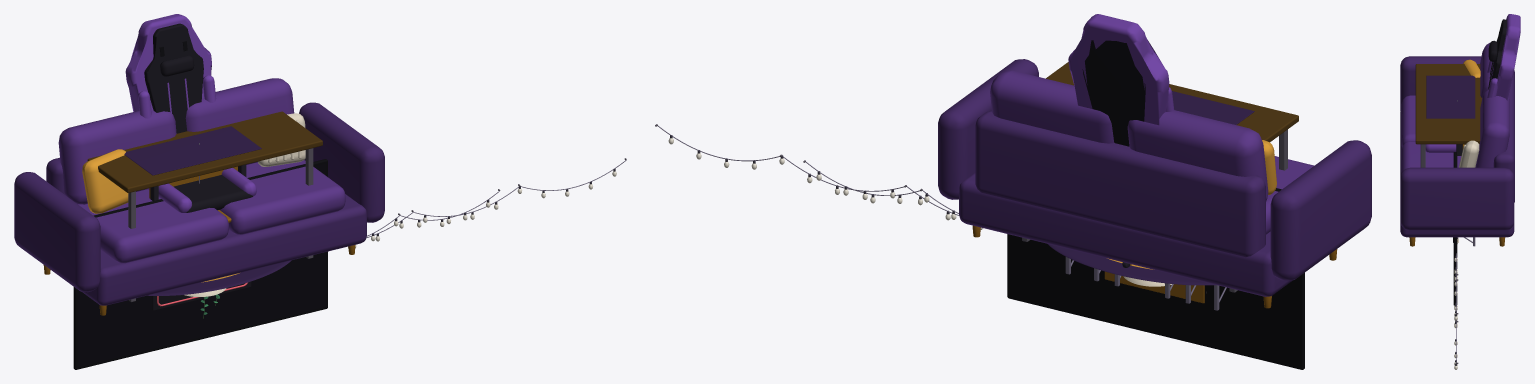
File: props.glb
3 views of the same model, side by side, from view 1: azimuth 30°, elevation 25°; view 2: azimuth 150°, elevation 25°; view 3: azimuth 270°, elevation 25° (orthographic). The views are drawn at different scales.
Parts seen in each view (by area): view 1: Sofa, TvScreen, ChairGamer, Desk, Tv, Rug, StringLights, NeonSign; view 2: Sofa, Tv, ChairGamer, Desk, Rug, StringLights, MottoSign; view 3: Sofa, Desk, ChairGamer, Tv, StringLights.
Boxes of the visible parts, <box> form: Sofa: <box>14,78,384,315</box>; TvScreen: <box>78,163,325,366</box>; ChairGamer: <box>125,14,257,212</box>; Desk: <box>87,111,322,301</box>; Tv: <box>73,159,327,369</box>; Rug: <box>148,260,291,295</box>; StringLights: <box>355,158,626,247</box>; NeonSign: <box>152,281,251,310</box>; Sofa: <box>938,59,1371,308</box>; Tv: <box>1007,188,1304,369</box>; ChairGamer: <box>1068,14,1174,267</box>; Desk: <box>1022,62,1298,292</box>; Rug: <box>1047,243,1215,285</box>; StringLights: <box>655,124,959,220</box>; MottoSign: <box>1104,271,1204,303</box>; Sofa: <box>1400,43,1514,246</box>; Desk: <box>1415,64,1482,167</box>; ChairGamer: <box>1425,14,1520,155</box>; Tv: <box>1453,152,1457,305</box>; StringLights: <box>1454,237,1458,369</box>.
Size of the model in its own units: 5.05 by 2.44 by 1.13.
